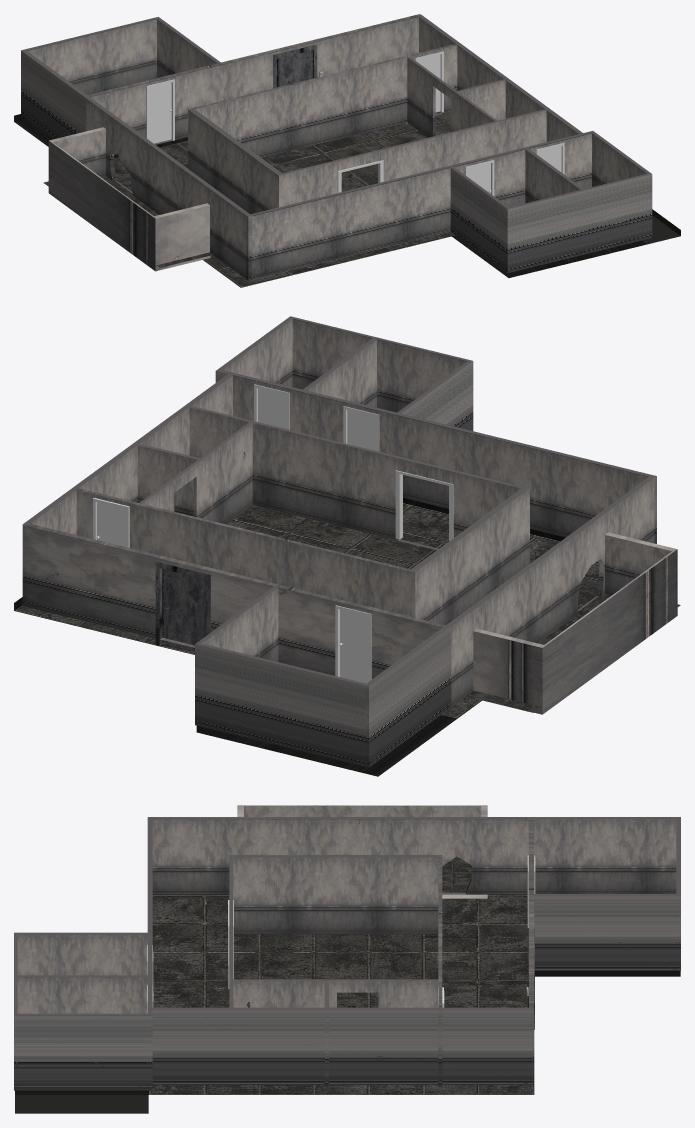
Rendered from Segunda Fase.fbx.
The picture shows the model from 3 angles, top to bottom: view 1: azimuth 30°, elevation 25°; view 2: azimuth 150°, elevation 25°; view 3: azimuth 270°, elevation 25°; orthographic projection. The views are drawn at different scales.
Visible parts, largest first — view 1: paredeFora, ParerdeDentro, Cube, Chão, Porta.011, Porta, Plane, Borda, Borda.004, Porta.003, Porta.001; view 2: paredeFora, ParerdeDentro, Cube, Chão, Porta, Porta.011, Borda, Plane, Porta.003, Porta.001, Porta.002, Borda.005 (+1 smaller); view 3: paredeFora, Chão, ParerdeDentro, Cube, Plane.
Part boxes in pixels (bbox=[...]): paredeFora: bbox=[21, 14, 652, 280]; ParerdeDentro: bbox=[188, 44, 546, 214]; Cube: bbox=[48, 127, 210, 271]; Chão: bbox=[14, 111, 680, 287]; Porta.011: bbox=[149, 82, 171, 143]; Porta: bbox=[277, 50, 313, 87]; Plane: bbox=[43, 176, 213, 267]; Borda: bbox=[273, 44, 317, 88]; Borda.004: bbox=[146, 79, 174, 140]; Porta.003: bbox=[418, 54, 440, 112]; Porta.001: bbox=[468, 163, 490, 193]; paredeFora: bbox=[22, 316, 656, 767]; ParerdeDentro: bbox=[76, 406, 529, 624]; Cube: bbox=[473, 532, 677, 714]; Chão: bbox=[14, 497, 599, 776]; Porta: bbox=[162, 569, 206, 650]; Porta.011: bbox=[340, 609, 368, 683]; Borda: bbox=[155, 561, 210, 645]; Plane: bbox=[466, 594, 680, 712]; Porta.003: bbox=[97, 502, 125, 546]; Porta.001: bbox=[347, 410, 376, 450]; Porta.002: bbox=[258, 388, 286, 428]; Borda.005: bbox=[395, 470, 453, 541]; paredeFora: bbox=[14, 817, 680, 1090]; Chão: bbox=[15, 894, 680, 1113]; ParerdeDentro: bbox=[229, 855, 442, 1086]; Cube: bbox=[237, 805, 487, 898]; Plane: bbox=[442, 861, 471, 892].
Bounding box in the file's own units: 3975 × 614 × 4549.
